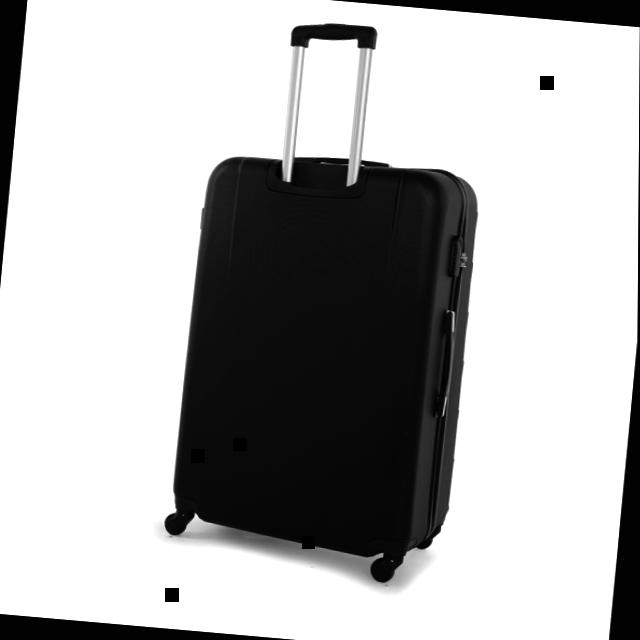luggage: (158, 132, 496, 573)
